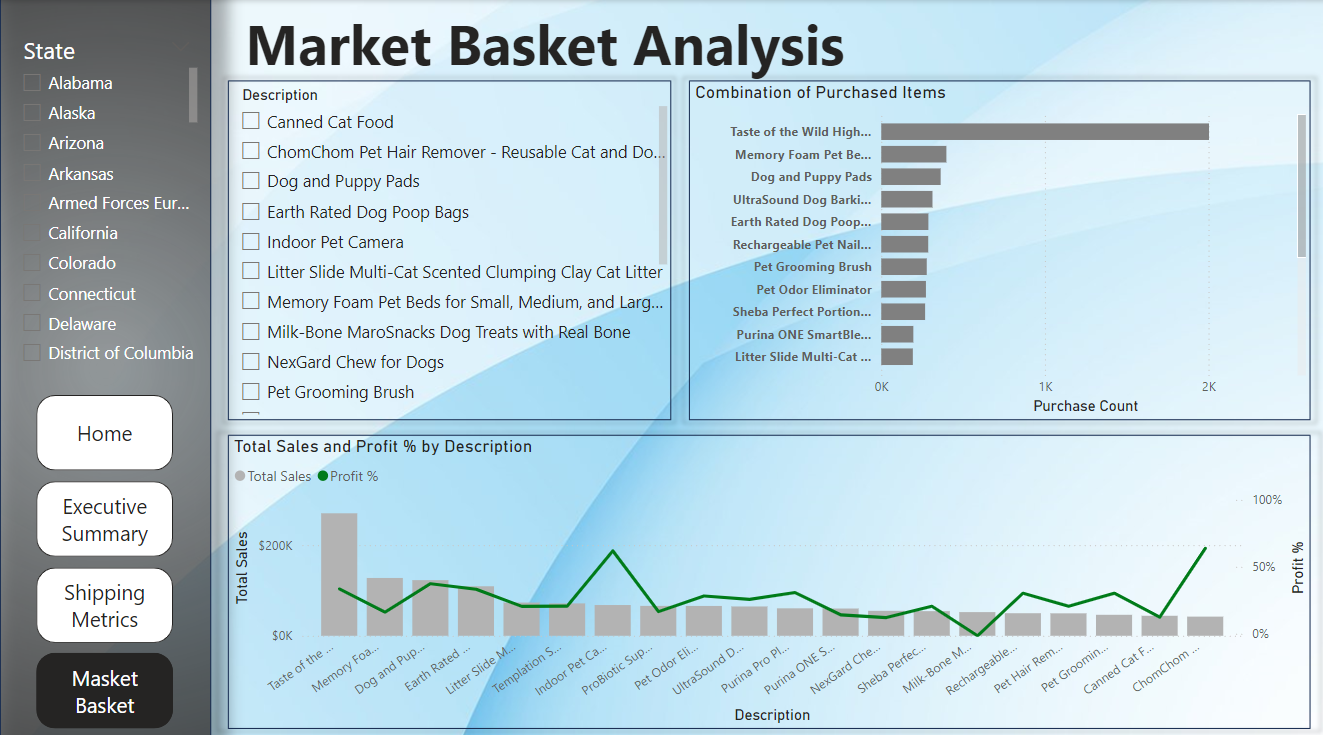

This screenshot's page, from the dashboard's own definition file:
{"tool":"powerbi","page":{"name":"Masket Basket","canvas":[1280,720],"ordinal":7},"visuals":[{"type":"slicer","fields":{"Values":["Sales.Description"]},"box":[220.8,78.4,428.3,326.9],"z":0},{"type":"barChart","title":"Combination of Purchased Items","fields":{"Category":["Market Basket.Description"],"Y":["CountNonNull(Market Basket.Description)"]},"box":[666,78.4,599.6,326.9],"z":1000},{"type":"lineStackedColumnComboChart","title":"Total Sales and Profit % by Description","fields":{"Category":["Products.Description"],"Y":["Sum(Sales.Sales)"],"Y2":["_Measures.Profit %"]},"box":[220.8,419.8,1044.8,283.5],"z":2000},{"type":"textbox","box":[220.8,0,610.5,91.7],"z":3000},{"type":"pageNavigator","box":[35,381.2,132.7,323.3],"z":4000},{"type":"slicer","fields":{"Values":["State Mapping.State"]},"box":[9.7,27.7,185.8,331.8],"z":5000}]}

Visuals, with their boxes on the page's 1280x720 design canvas (x1, y1, x2, y2). These are canvas units, not pixel positions in the 1323x735 screenshot, which may show the page scaled, cropped or inside an application window:
slicer - Sales.Description: bbox=[221, 78, 649, 405]
"Combination of Purchased Items" barChart: bbox=[666, 78, 1266, 405]
"Total Sales and Profit % by Description" lineStackedColumnComboChart: bbox=[221, 420, 1266, 703]
textbox: bbox=[221, 0, 831, 92]
pageNavigator: bbox=[35, 381, 168, 704]
slicer - State Mapping.State: bbox=[10, 28, 196, 360]
